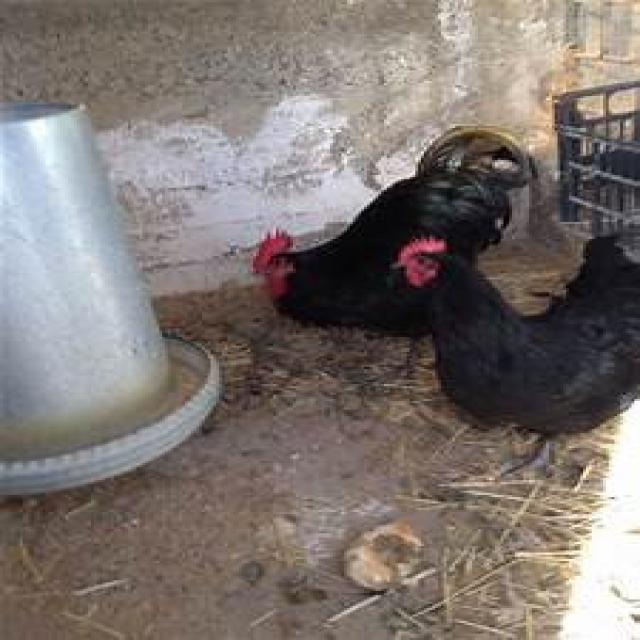animal: (398, 240, 638, 439), (248, 163, 507, 323)
